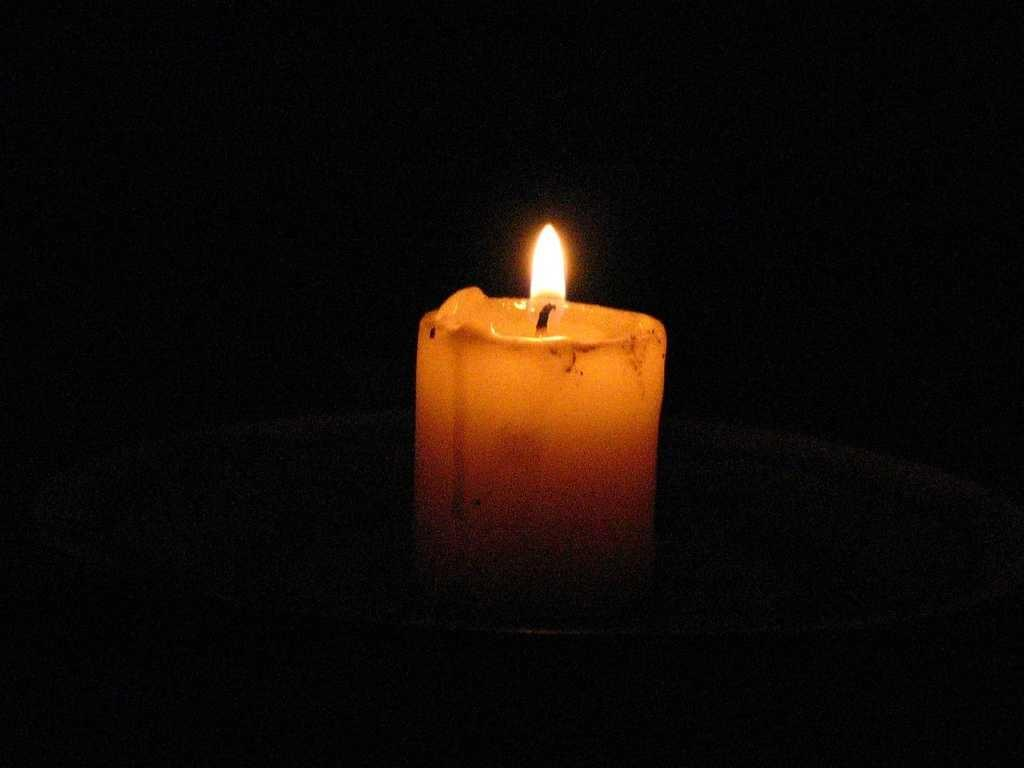fire: (517, 214, 592, 329)
